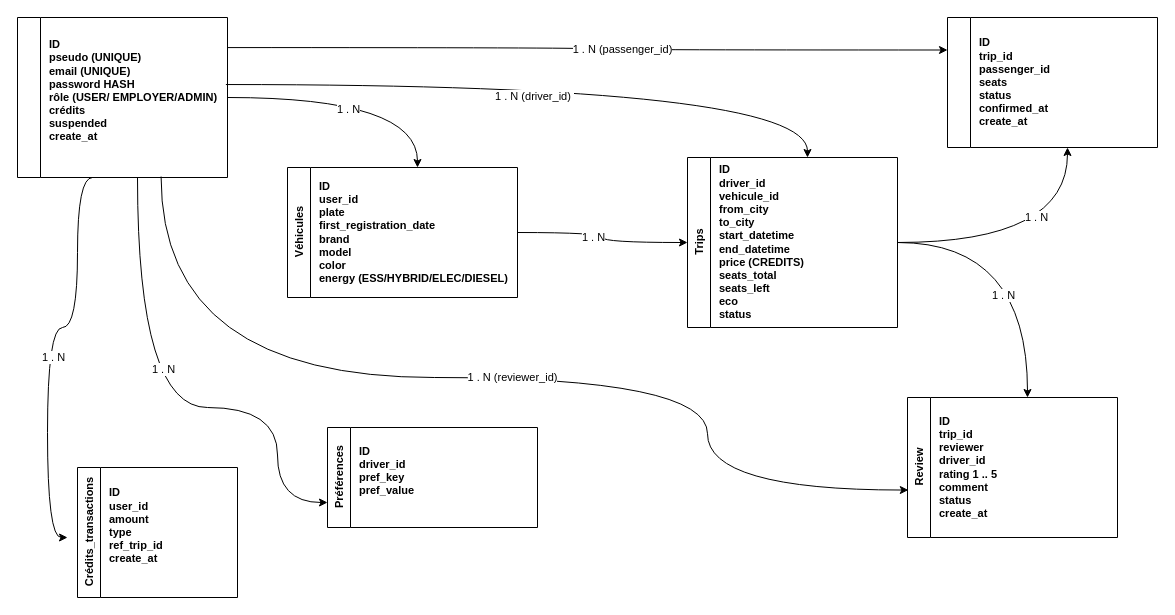
The diagram is 1175 pixels wide and 615 high, and some of its shapes have lost their labels. Each missing label, with the box of its shape:
Booking: (946, 16, 1158, 148)
Users: (16, 16, 228, 178)
